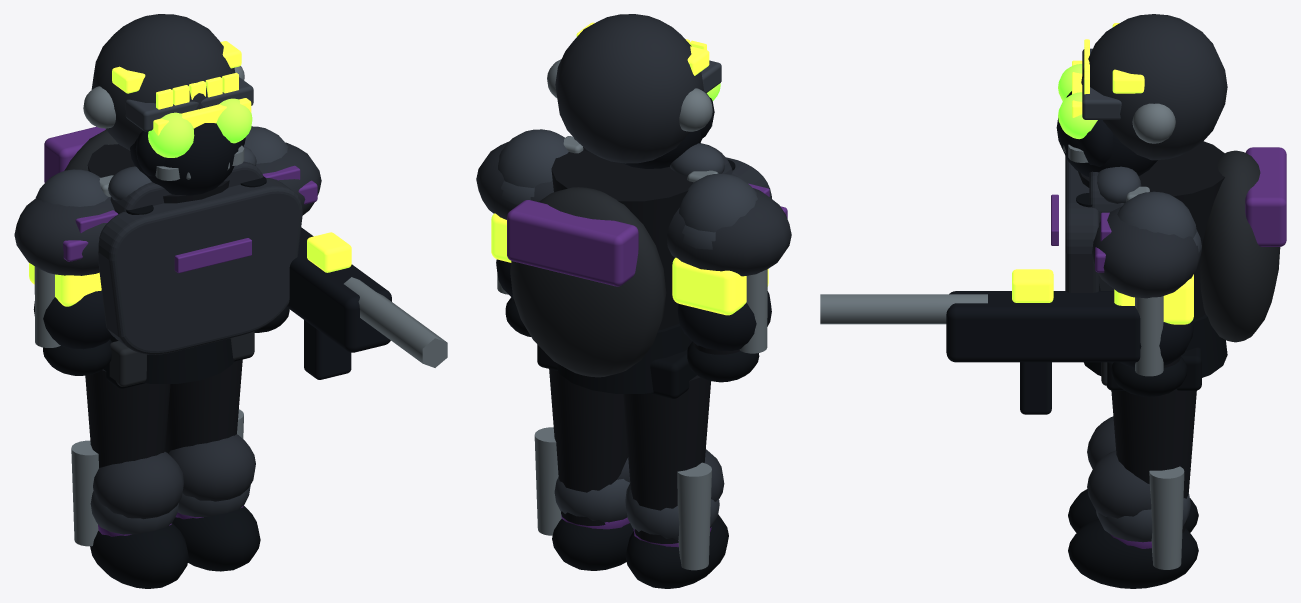
The model's file is sentinel_l05.glb.
3 renders of one model, left to right at view 1: azimuth 30°, elevation 25°; view 2: azimuth 150°, elevation 25°; view 3: azimuth 270°, elevation 25°, orthographic. The views are drawn at different scales.
Parts seen in each view (by area): view 1: contoured_tactical_plate, trouser (×2), rounded_helmet, shaped_knee_guard (×2), rounded_boot (×2), broad_shoulder_guard (×2), heavy_carbine, enclosed_mask, heavy_barrel, shoulder_joint (×2), forearm_guard, waist_flex (+21 smaller); view 2: rounded_helmet, trouser (×2), shaped_field_pack, elite_back_plate, broad_shoulder_guard (×2), body, rounded_boot (×2), shoulder_joint (×2), shin_frame (×2), knee_plate (×2), rank_stripe (×2), forearm_guard (×2) (+12 smaller); view 3: rounded_helmet, heavy_carbine, shaped_field_pack, trouser, broad_shoulder_guard, rounded_boot (×2), body, heavy_barrel, shaped_knee_guard (×2), elite_back_plate, contoured_tactical_plate, shin_frame (+18 smaller).
Part boxes in pixels (x1,y1,x2,y2): contoured_tactical_plate: (98, 178, 302, 354); trouser (×2): (85, 359, 242, 467); rounded_helmet: (91, 14, 235, 150); shaped_knee_guard (×2): (93, 434, 255, 519); rounded_boot (×2): (90, 505, 260, 588); broad_shoulder_guard (×2): (14, 142, 321, 275); heavy_carbine: (287, 227, 391, 352); enclosed_mask: (130, 123, 238, 195); heavy_barrel: (344, 277, 447, 367); shoulder_joint (×2): (35, 126, 288, 206); forearm_guard: (33, 290, 112, 349); waist_flex: (110, 336, 234, 383); rounded_helmet: (555, 14, 704, 163); trouser (×2): (549, 369, 710, 543); shaped_field_pack: (510, 187, 666, 377); elite_back_plate: (507, 200, 638, 286); broad_shoulder_guard (×2): (476, 141, 791, 276); body: (551, 150, 693, 330); rounded_boot (×2): (552, 514, 728, 588); shoulder_joint (×2): (498, 129, 757, 232); shin_frame (×2): (534, 427, 711, 570); knee_plate (×2): (554, 477, 719, 539); rank_stripe (×2): (491, 213, 768, 315); forearm_guard (×2): (496, 259, 771, 350); rounded_helmet: (1081, 14, 1227, 160); heavy_carbine: (946, 291, 1140, 362); shaped_field_pack: (1200, 150, 1280, 342); trouser: (1111, 389, 1196, 532); broad_shoulder_guard: (1092, 206, 1201, 298); rounded_boot (×2): (1068, 489, 1198, 588); body: (1078, 141, 1224, 319); heavy_barrel: (820, 294, 987, 324); shaped_knee_guard (×2): (1087, 416, 1151, 518); elite_back_plate: (1245, 147, 1286, 246); contoured_tactical_plate: (1065, 156, 1099, 292); shin_frame: (1149, 466, 1184, 569).
Size of the model in its own units: 1.07 by 1.89 by 1.46.
